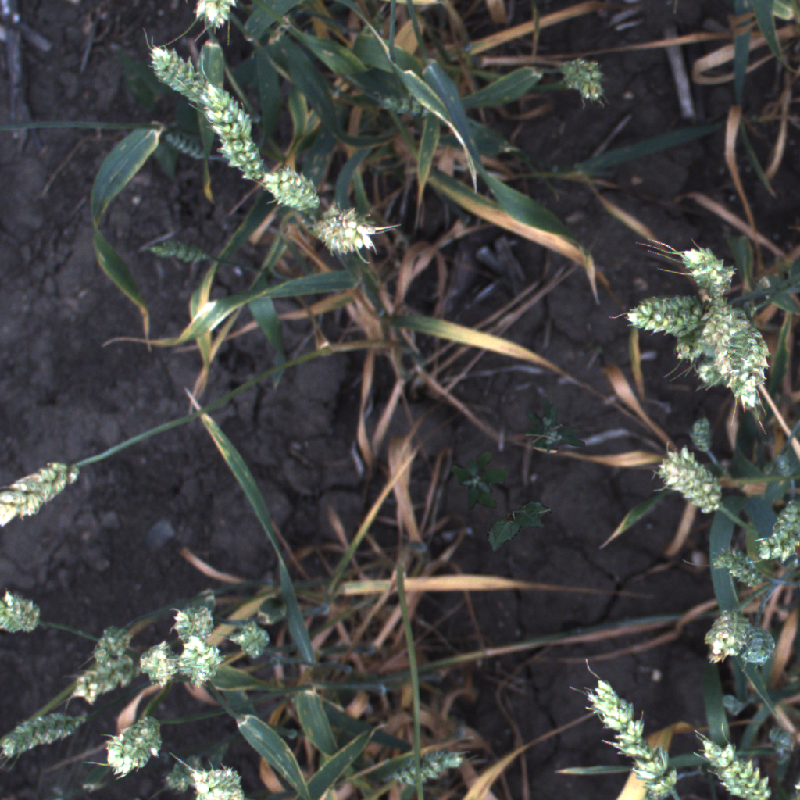spikelet: (567, 673, 685, 800), (704, 299, 775, 401), (682, 724, 775, 800), (197, 86, 266, 188), (1, 460, 81, 538), (141, 39, 219, 112), (653, 442, 725, 516), (3, 709, 85, 761), (378, 746, 465, 792), (64, 658, 146, 703), (621, 292, 699, 335), (310, 203, 372, 254), (107, 718, 160, 775), (757, 492, 796, 564), (705, 607, 750, 663), (261, 169, 319, 212), (1, 585, 47, 639), (84, 619, 135, 667), (189, 760, 251, 799), (555, 54, 601, 103), (367, 90, 440, 120), (150, 232, 210, 264), (674, 245, 723, 283), (740, 619, 775, 671), (178, 639, 221, 680), (139, 642, 179, 685), (714, 549, 753, 588), (229, 623, 268, 659), (171, 602, 211, 636), (164, 754, 200, 789), (670, 324, 708, 357), (689, 357, 725, 390), (164, 130, 206, 158), (689, 417, 711, 450)
weed: (480, 494, 557, 556), (451, 451, 509, 511), (525, 397, 586, 454)
